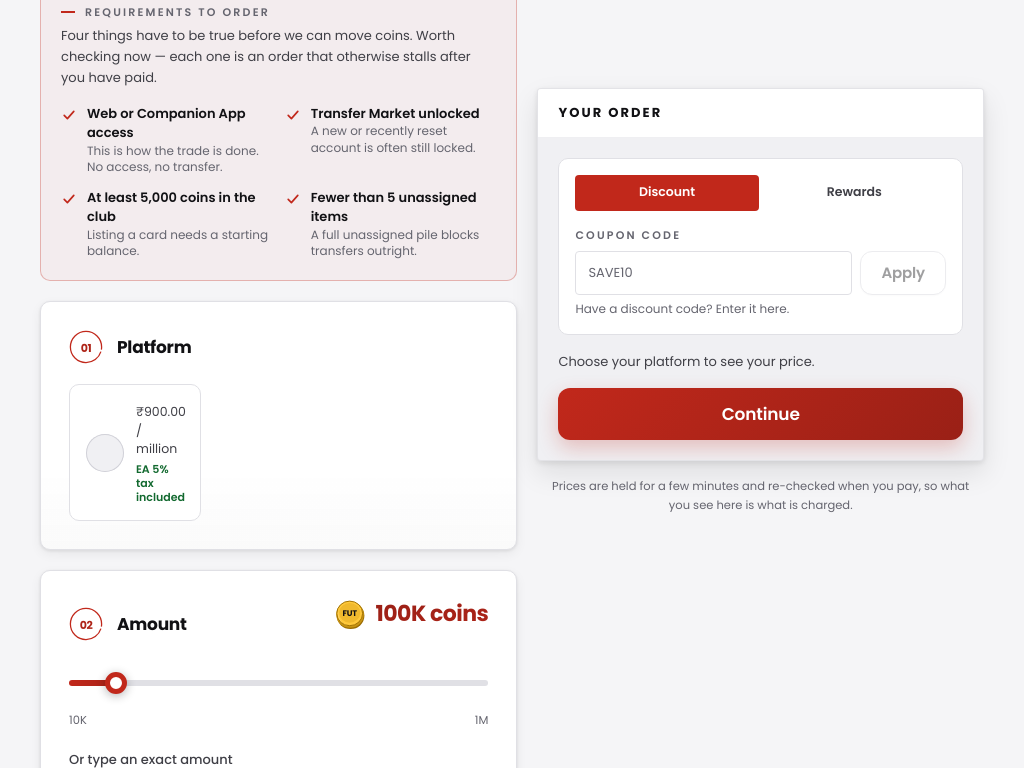
Test: Coin order page › shows the reason when a quote is refused
(page scrolled)
Click the button "₹900.00 / million EA 5% tax included" at (135, 453), box top-left (69, 384), bottom-right (201, 522)
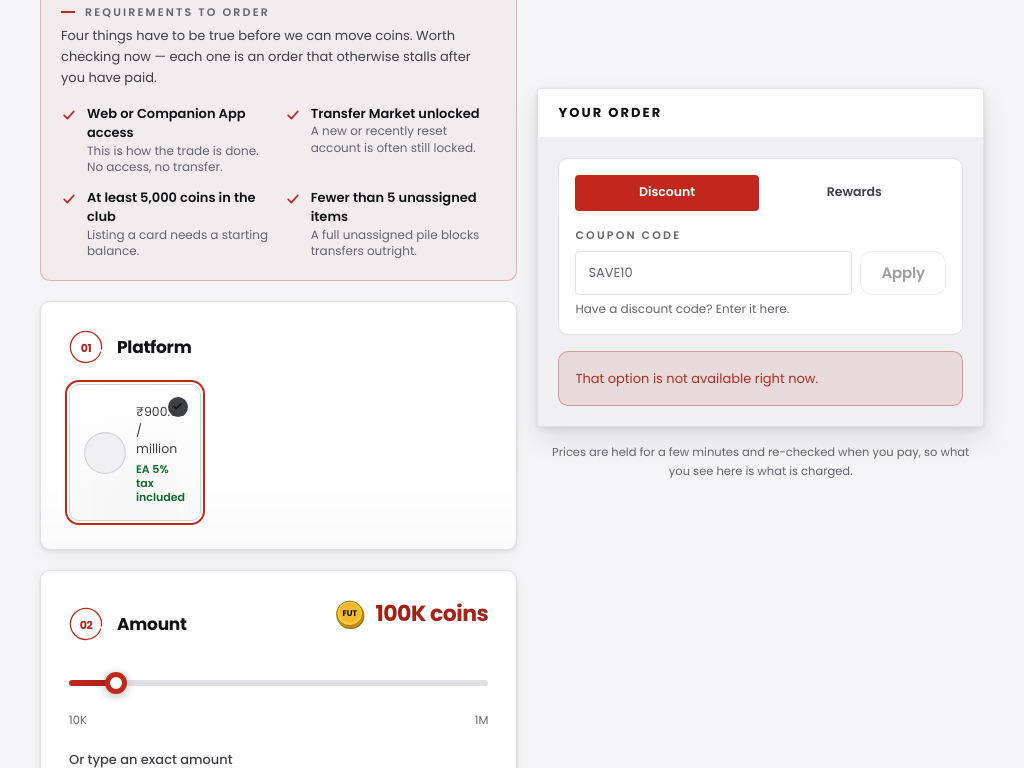
expect the text "That option is not available right now." is shown: met, box top-left (575, 368), bottom-right (818, 388)
